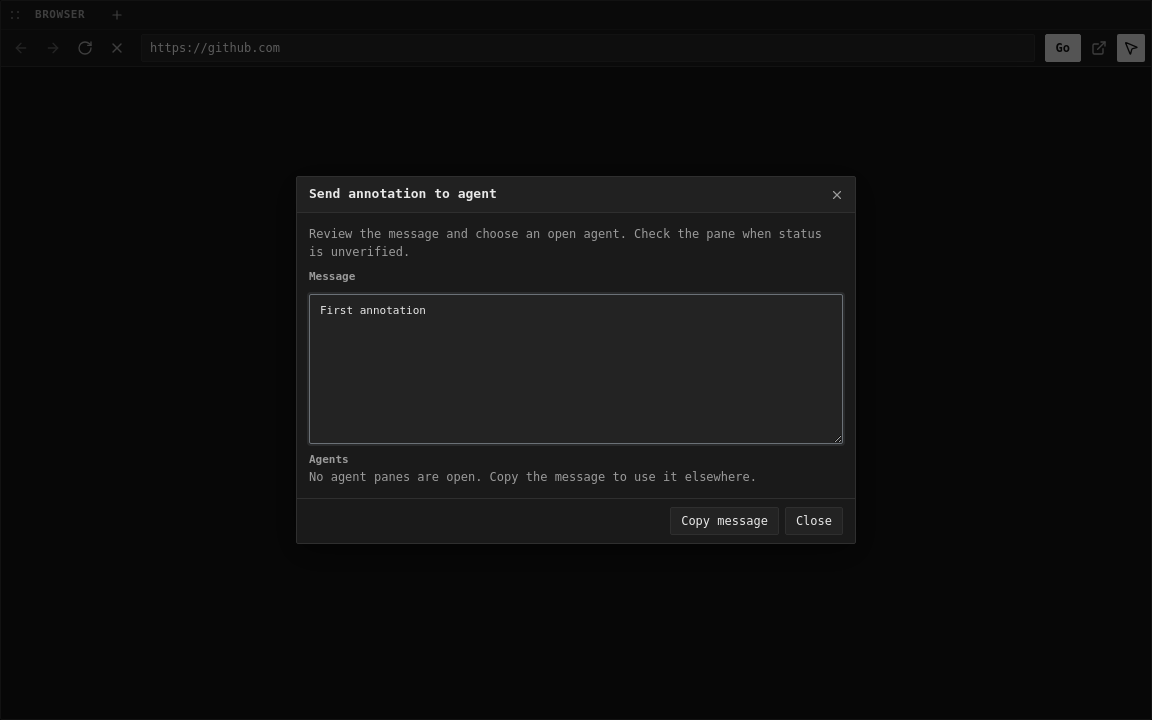
Test case: BrowserPanel › annotation lifecycle › shows two queued send previews one at a time
The width and height of the screenshot is (1152, 720).
Expected: the text box labelled "Message" holds "First annotation", x1=309 y1=294 x2=843 y2=444
Click the button named "Close annotation handoff". click: (837, 194)
box: x1=825 y1=182 x2=849 y2=206
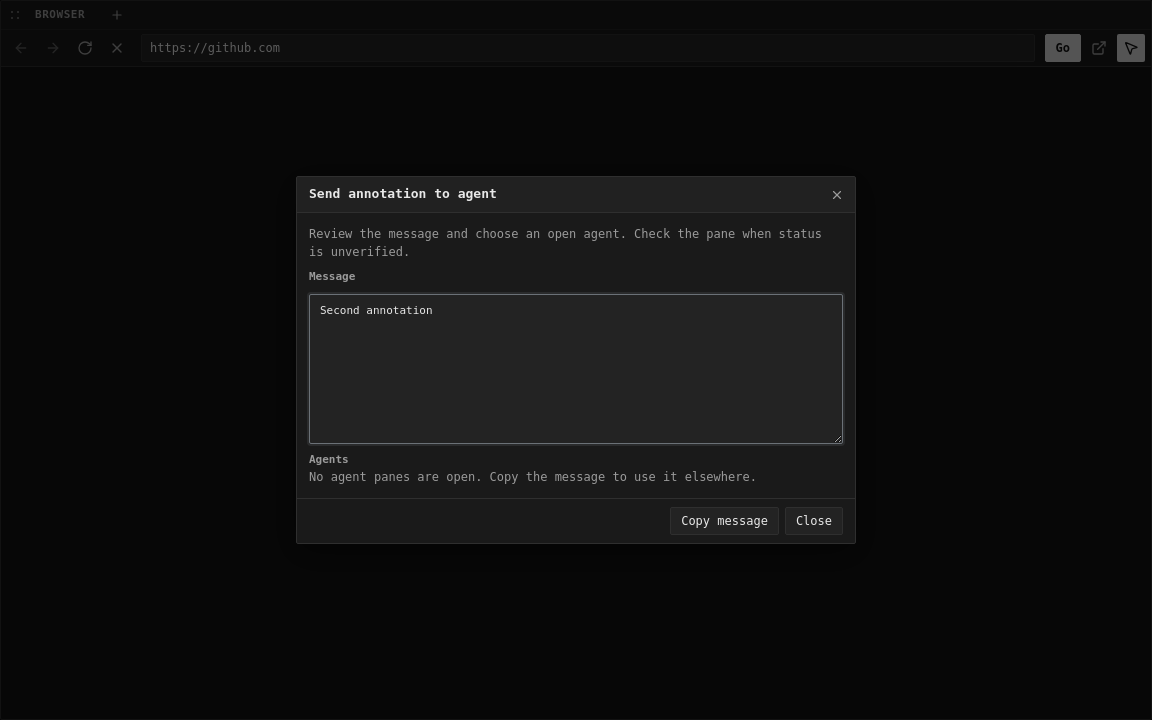
Now the text box labelled "Message" holds "Second annotation", box x1=309 y1=294 x2=843 y2=444
